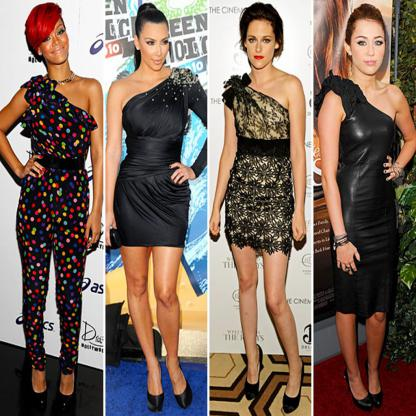face: (353, 20, 385, 75), (40, 14, 69, 64), (247, 19, 275, 68), (143, 24, 170, 71)
